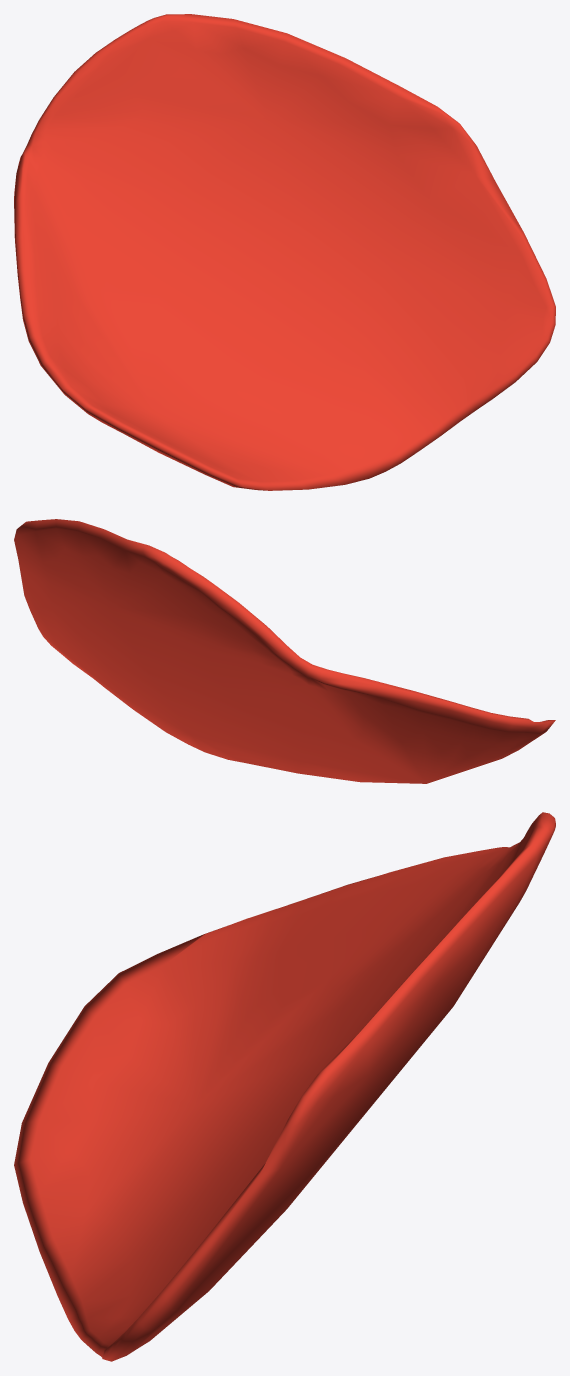
File: Semitendinosus_ischiatic_insertion_right.glb
The picture shows the model from 3 angles, top to bottom: view 1: azimuth 30°, elevation 25°; view 2: azimuth 150°, elevation 25°; view 3: azimuth 270°, elevation 25°; orthographic projection. The views are drawn at different scales.
Visible parts, largest first — view 1: Semitendinosus_muscle-Isciatic_insertion.r_Generated_Mesh_Fr; view 2: Semitendinosus_muscle-Isciatic_insertion.r_Generated_Mesh_Fr; view 3: Semitendinosus_muscle-Isciatic_insertion.r_Generated_Mesh_Fr.
Part boxes in pixels (x1=…): Semitendinosus_muscle-Isciatic_insertion.r_Generated_Mesh_Fr: x1=14, y1=14, x2=555, y2=490; Semitendinosus_muscle-Isciatic_insertion.r_Generated_Mesh_Fr: x1=14, y1=519, x2=555, y2=783; Semitendinosus_muscle-Isciatic_insertion.r_Generated_Mesh_Fr: x1=14, y1=812, x2=555, y2=1361.
Size of the model in its own units: 0.0192 by 0.0129 by 0.0134.
